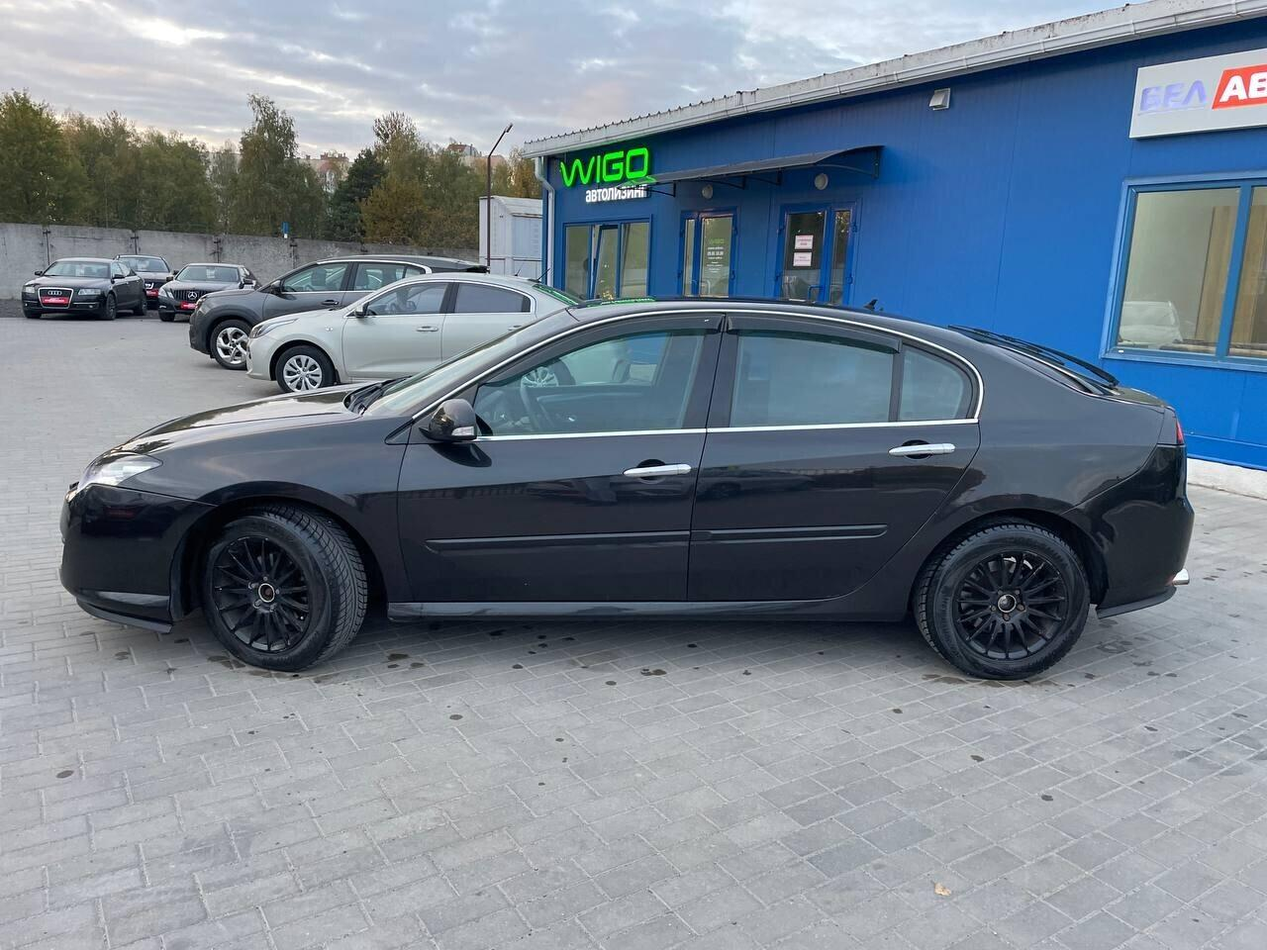Laguna_2010-2015: (46, 294, 1200, 687)
